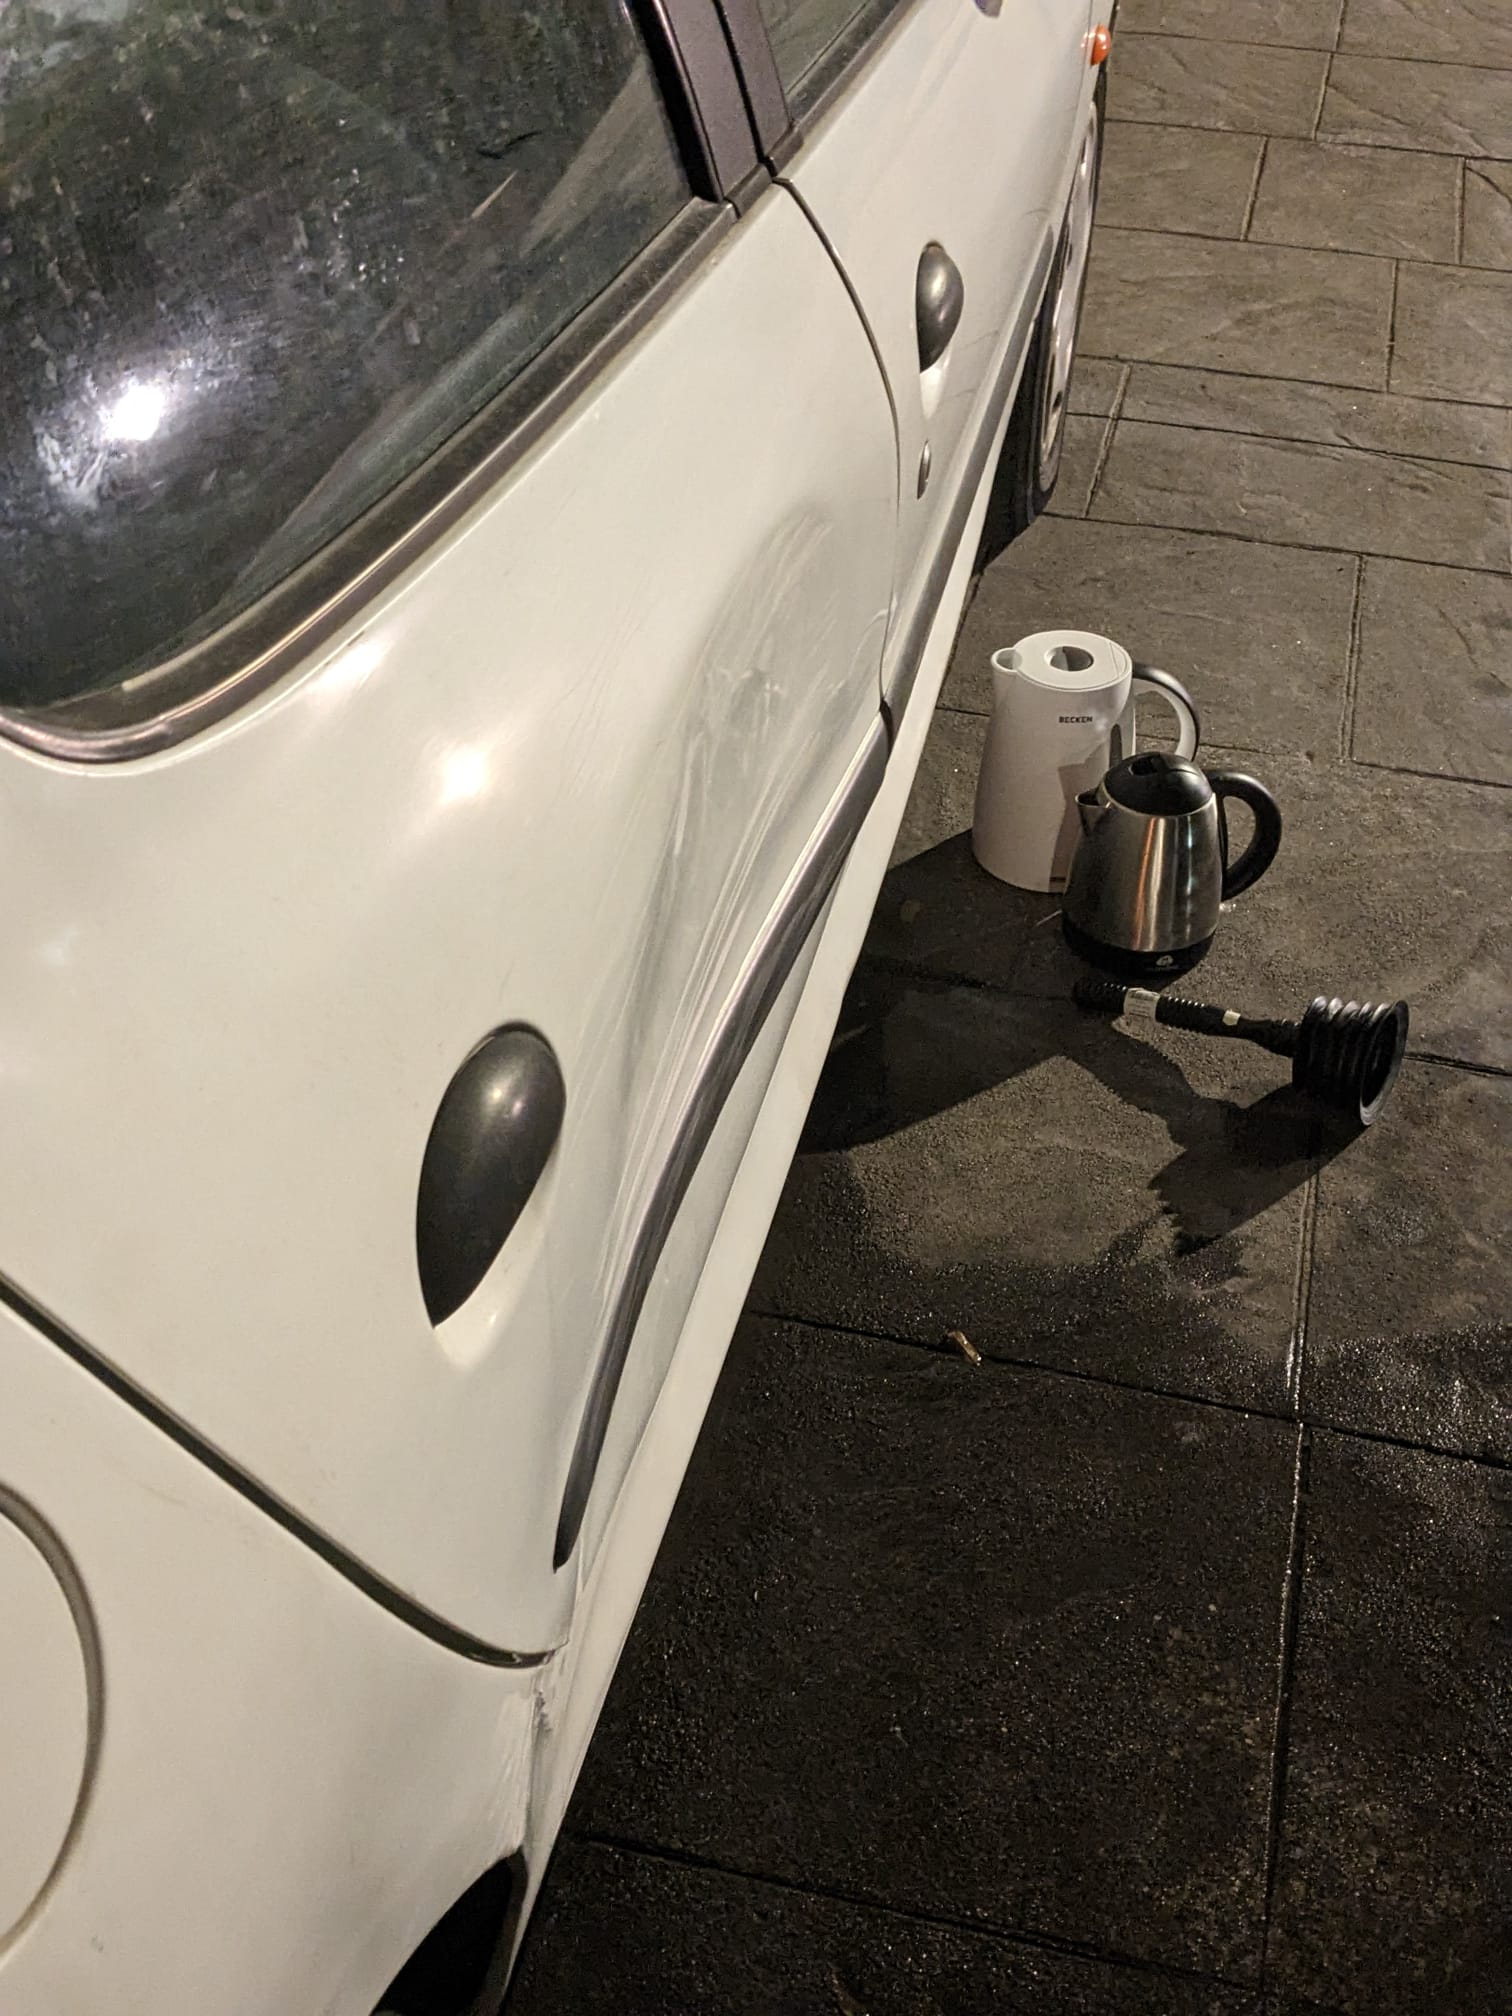car: (3, 5, 1123, 2005)
